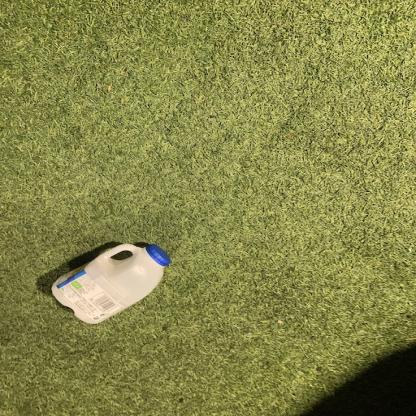trash: (48, 242, 171, 325)
